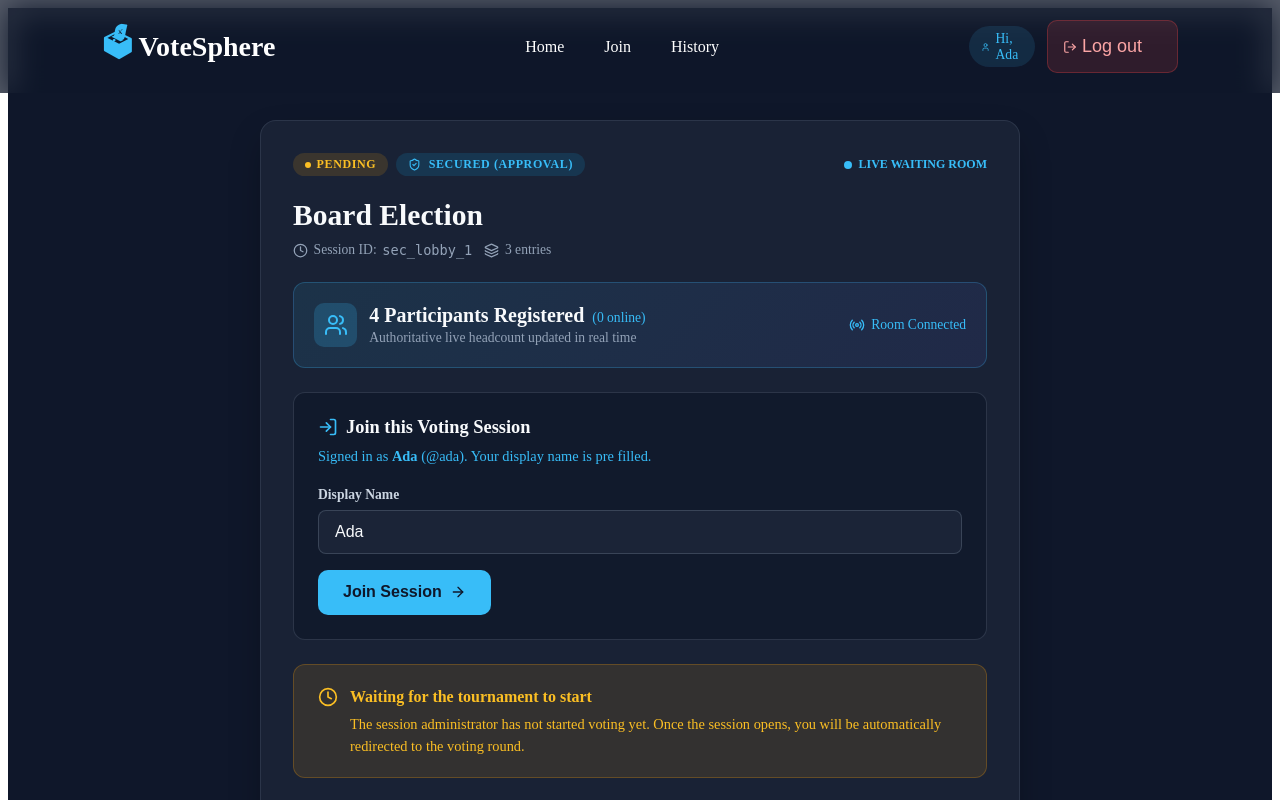
Scenario: Secured session lobby join form (AC-5, AC-15) › shows a pending approval notice when the join is queued for the organizer
This screenshot has width=1280, height=800.
Step 1. Click the button "Join Session" → (404, 592), box [318,570,491,615]
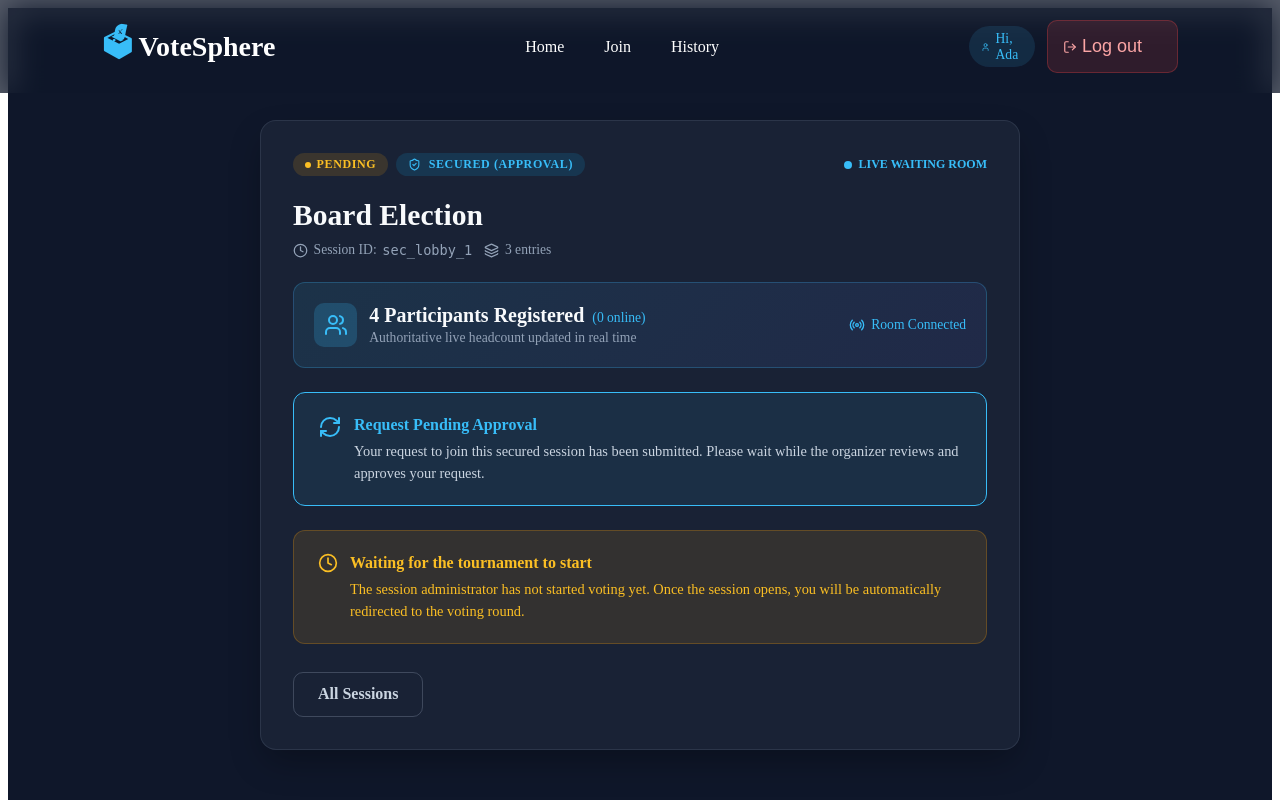
Check: the text "Request Pending Approval" is shown, box [354,416,537,433]
Check: the text "wait while the organizer reviews" is shown, box [354,444,958,481]
